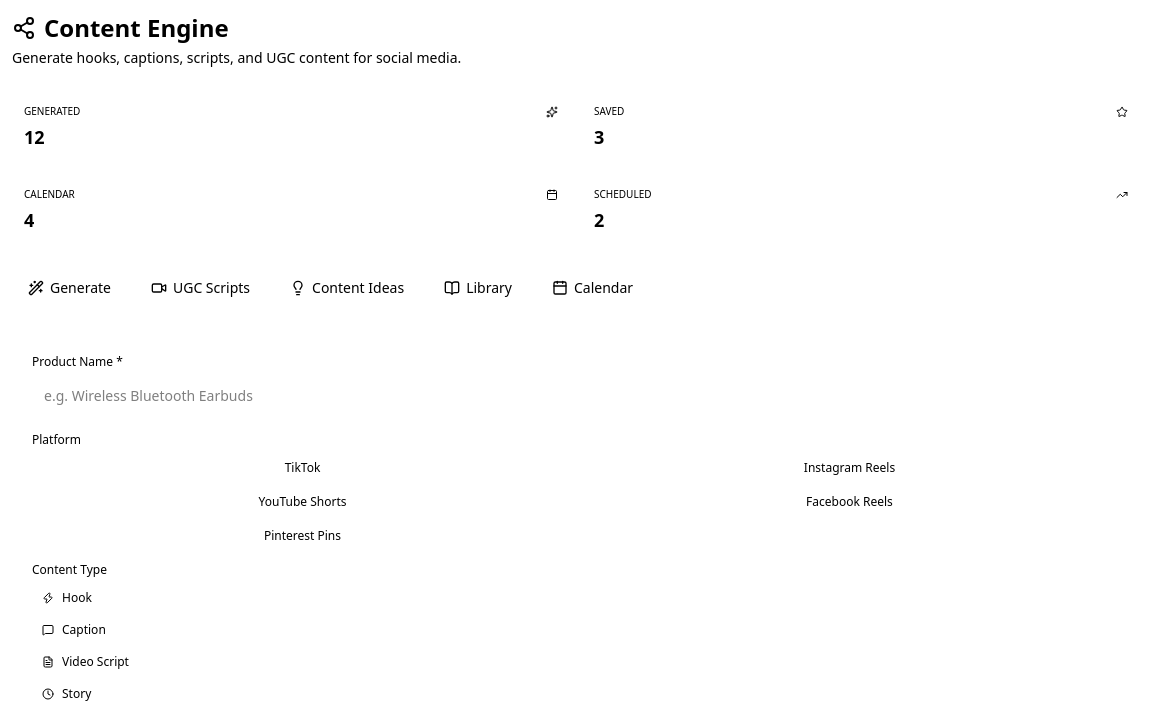
Test: SocialContentPage › renders library items with save indicator
Click the button "Library" at (478, 288), box x1=428 y1=270 x2=528 y2=306
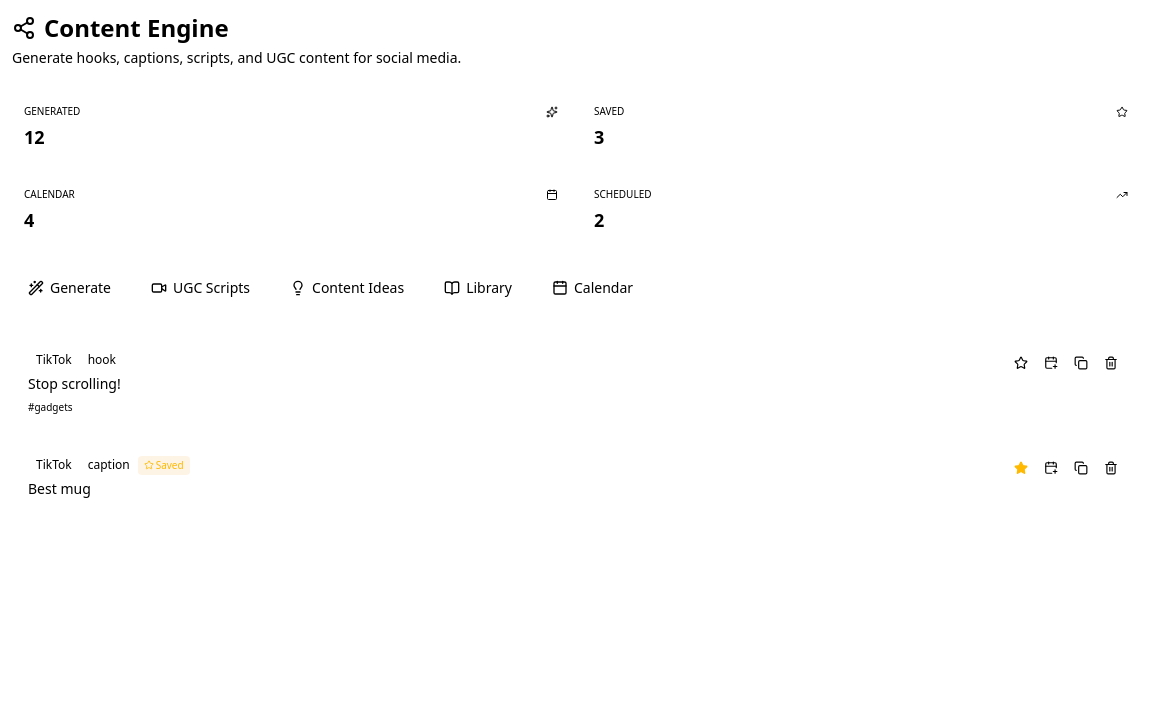
Result: the text "Stop scrolling!" is shown at x1=28 y1=374 x2=121 y2=393
Result: the button named "Remove from saved" is shown at x1=1008 y1=455 x2=1034 y2=481
